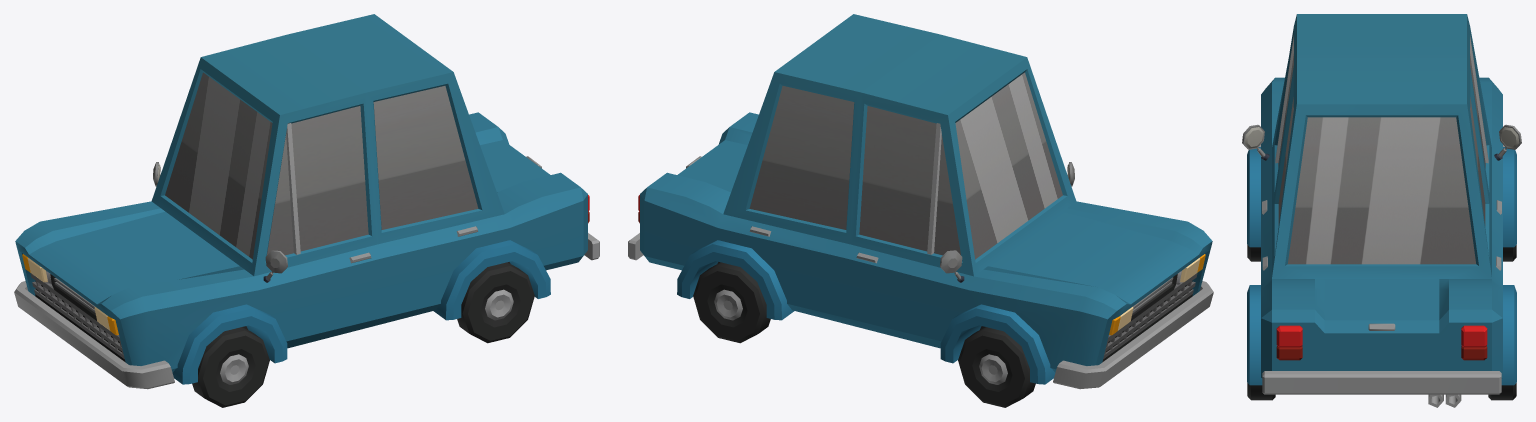
The model's file is Car_4_1_I.gltf.
3 renders of one model, left to right at view 1: azimuth 30°, elevation 25°; view 2: azimuth 150°, elevation 25°; view 3: azimuth 270°, elevation 25°, orthographic. The views are drawn at different scales.
Parts seen in each view (by area): view 1: Car_4_1_I, RL, FL; view 2: Car_4_1_I, RR, FR; view 3: Car_4_1_I, RL, RR.
Boxes of the visible parts, left/top/right/bottom form: Car_4_1_I: left=14, top=14, right=599, bottom=389; RL: left=457, top=262, right=534, bottom=343; FL: left=192, top=327, right=269, bottom=407; Car_4_1_I: left=628, top=14, right=1213, bottom=389; RR: left=693, top=262, right=770, bottom=343; FR: left=958, top=327, right=1035, bottom=407; Car_4_1_I: left=1242, top=14, right=1521, bottom=407; RL: left=1247, top=383, right=1275, bottom=400; RR: left=1488, top=383, right=1516, bottom=400.
Size of the model in its own units: 3.53 by 1.81 by 1.65.
4 materials, 4 textured.
